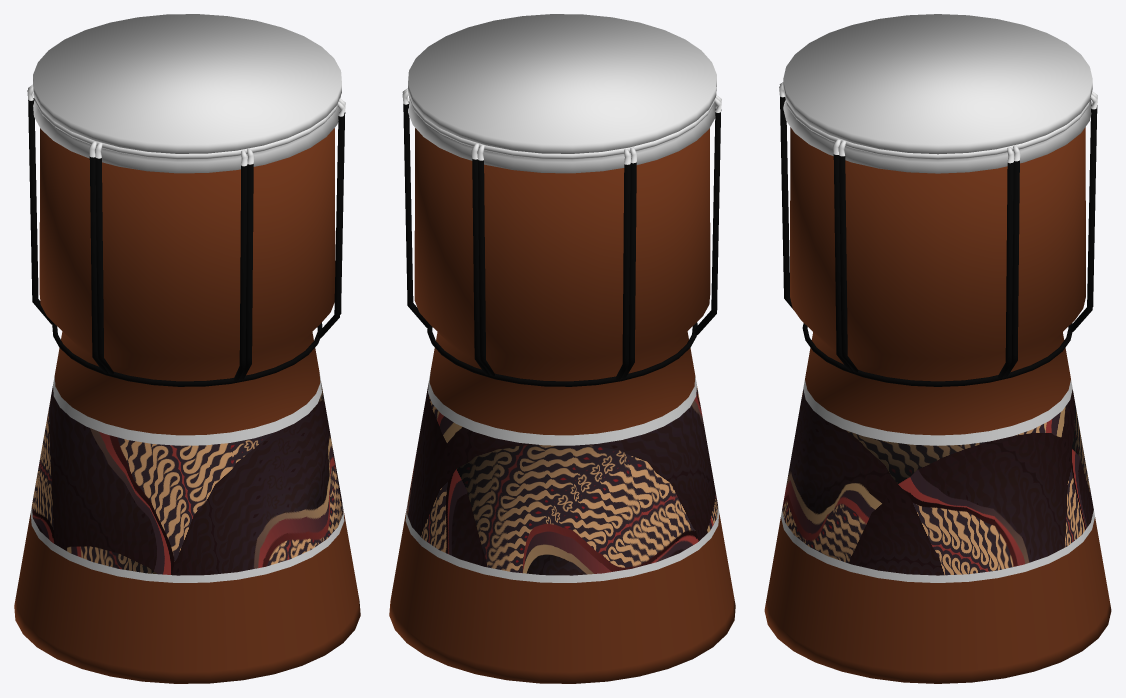
Rendered from gendang.fbx.
3 renders of one model, left to right at view 1: azimuth 30°, elevation 25°; view 2: azimuth 150°, elevation 25°; view 3: azimuth 270°, elevation 25°, orthographic.
Parts seen in each view (by area): view 1: Cylinder; view 2: Cylinder; view 3: Cylinder.
Boxes of the visible parts, bbox=[...] form: Cylinder: bbox=[14, 14, 360, 683]; Cylinder: bbox=[389, 14, 735, 683]; Cylinder: bbox=[764, 14, 1111, 683].
Bounding box in the file's own units: 59.51 × 101 × 59.51.
Materials: 5 (1 with a texture image).
